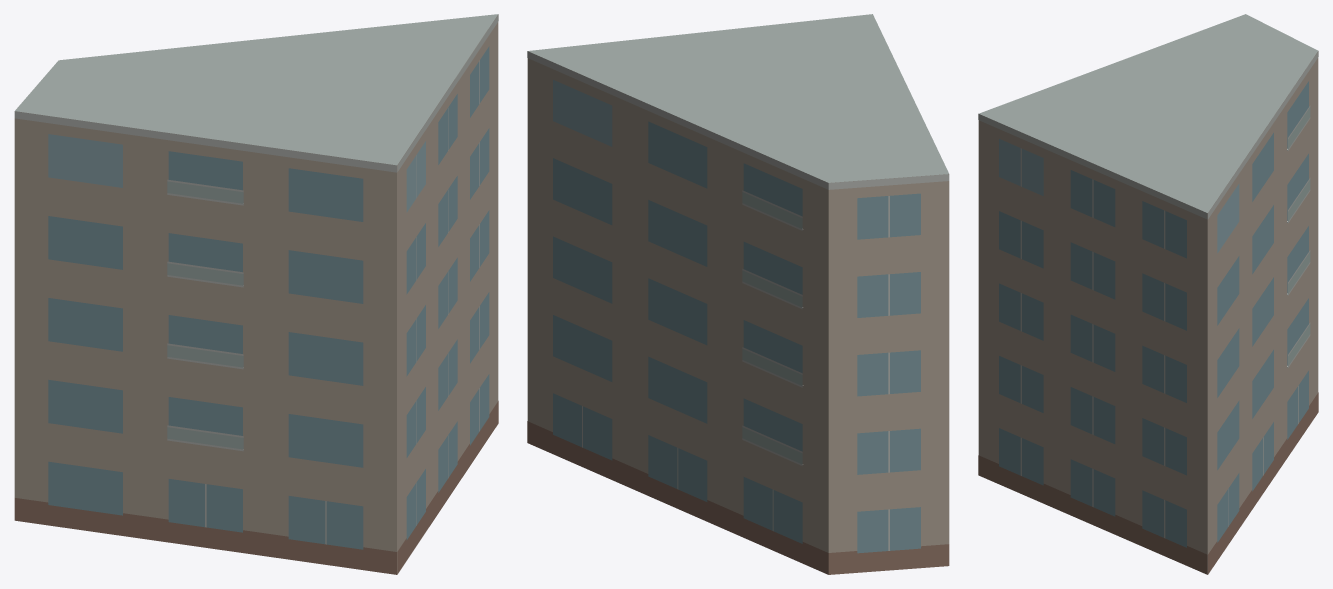
File: survey-upis-32874947.glb
3 renders of one model, left to right at view 1: azimuth 30°, elevation 25°; view 2: azimuth 150°, elevation 25°; view 3: azimuth 270°, elevation 25°, orthographic. The views are drawn at different scales.
Parts seen in each view (by area): view 1: survey-upis-32874947.tmp; view 2: survey-upis-32874947.tmp; view 3: survey-upis-32874947.tmp.
Boxes of the visible parts, x1,y1,x2,y2 form: survey-upis-32874947.tmp: (14,14,498,574); survey-upis-32874947.tmp: (527,14,949,574); survey-upis-32874947.tmp: (978,14,1318,574).
Size of the model in its own units: 16.19 by 13.7 by 11.67.
